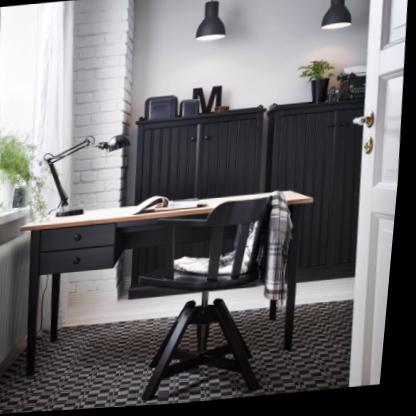Chair: (131, 196, 288, 405)
Table: (15, 187, 328, 375)
